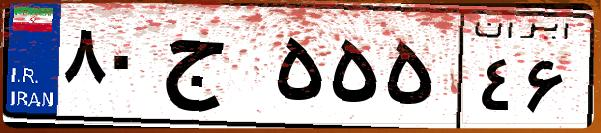0: (110, 28, 158, 98)
4: (475, 38, 525, 113)
5: (270, 28, 330, 110), (385, 28, 445, 110), (330, 28, 385, 110)
6: (525, 38, 570, 115)
8: (57, 26, 110, 100)
ج: (158, 20, 270, 120)
